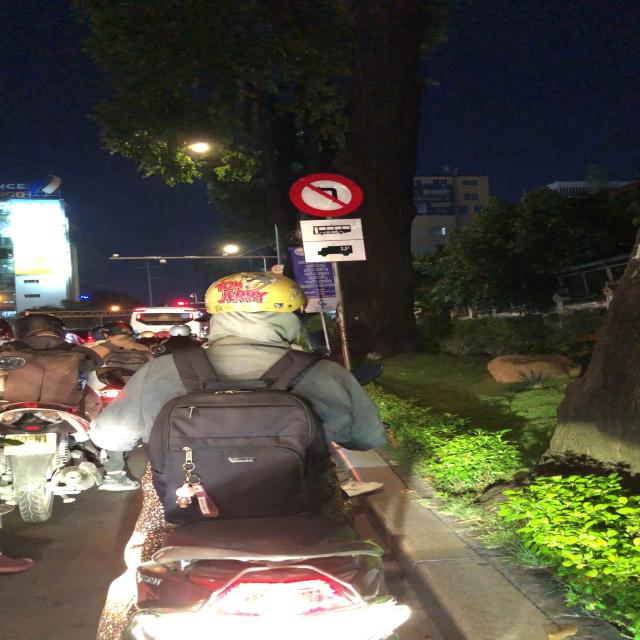Bien bao cam re trai: (288, 170, 366, 218)
